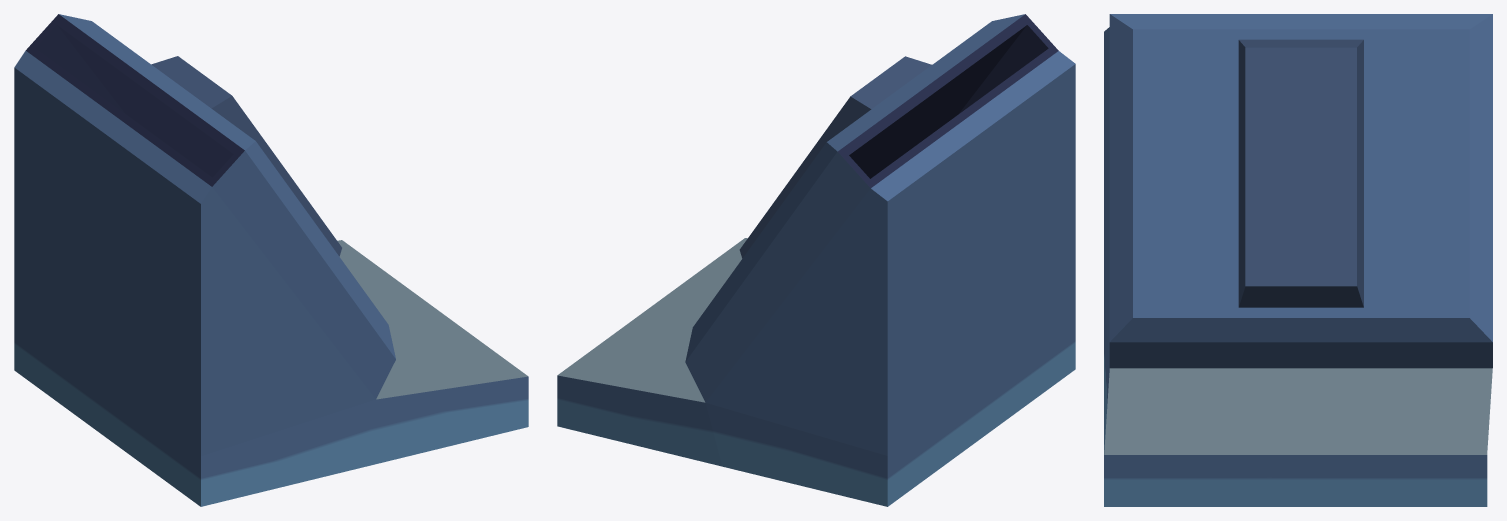
Rendered from ground_thrower.fbx.
3 views of the same model, side by side, from view 1: azimuth 30°, elevation 25°; view 2: azimuth 150°, elevation 25°; view 3: azimuth 270°, elevation 25° (orthographic). The views are drawn at different scales.
Visible parts, largest first — view 1: GroundThrower; view 2: GroundThrower; view 3: GroundThrower.
Boxes of the visible parts, box(x1,y1,x2,y2) form: GroundThrower: box(14, 14, 528, 506); GroundThrower: box(557, 14, 1075, 506); GroundThrower: box(1104, 14, 1492, 506).
Bounding box in the file's own units: 300 × 300 × 300.
